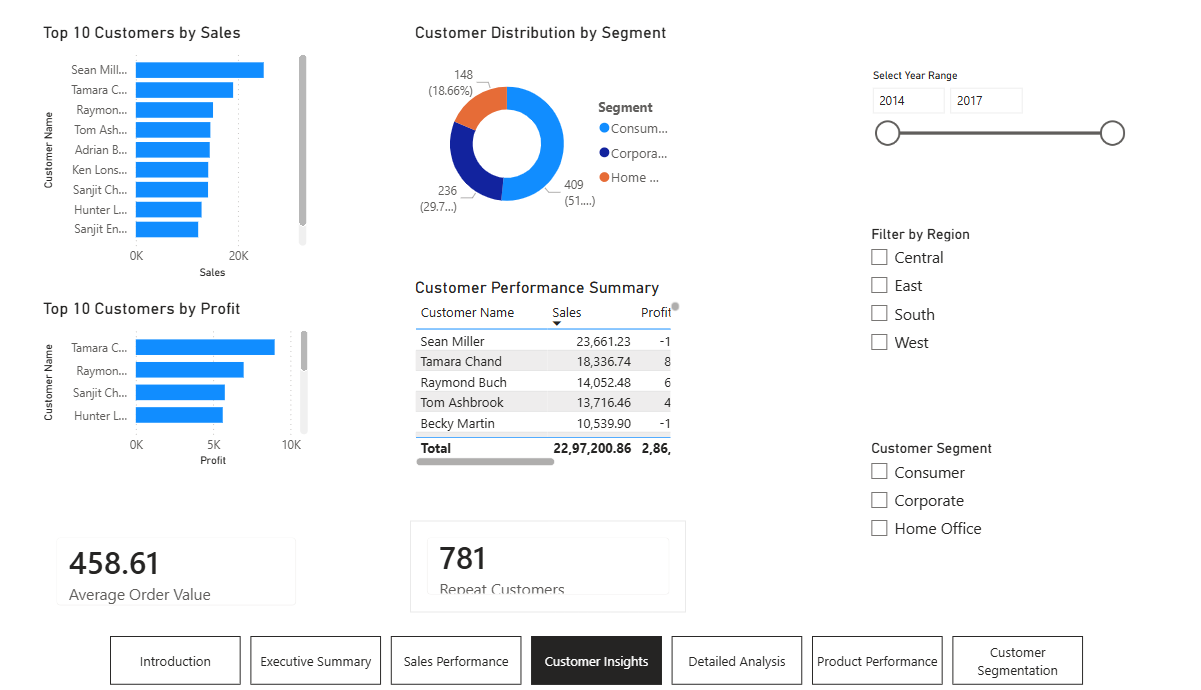

This screenshot's page, from the dashboard's own definition file:
{"tool":"powerbi","page":{"name":"Customer Insights","canvas":[1280,720],"ordinal":3},"visuals":[{"type":"clusteredBarChart","title":"Top 10 Customers by Sales","fields":{"Category":["sales_dashboard sales.Customer Name"],"Y":["Sum(sales_dashboard sales.Sales)"]},"box":[56,28.8,280.1,266.5],"z":0},{"type":"clusteredBarChart","title":"Top 10 Customers by Profit","fields":{"Category":["sales_dashboard sales.Customer Name"],"Y":["Sum(sales_dashboard sales.Profit)"]},"box":[55.4,312.3,281.5,176.9],"z":1000},{"type":"donutChart","title":"Customer Distribution by Segment","fields":{"Category":["sales_dashboard sales.Segment"],"Y":["Count(sales_dashboard sales.Customer ID)"]},"box":[437.6,28.8,280.1,228.6],"z":2000},{"type":"tableEx","title":"Customer Performance Summary","fields":{"Values":["sales_dashboard sales.Customer Name","Sum(sales_dashboard sales.Sales)","Sum(sales_dashboard sales.Profit)","Sum(sales_dashboard sales.Quantity)","sales_dashboard sales.Order ID"]},"box":[436.9,290.8,281.5,198.5],"z":3000},{"type":"cardVisual","fields":{"Data":["sales_dashboard sales.Repeat Customers"]},"box":[436.9,540,283.1,93.8],"z":4000},{"type":"cardVisual","fields":{"Data":["sales_dashboard sales.Average Order Value"]},"box":[56.9,540,280,104.6],"z":5000},{"type":"slicer","fields":{"Values":["sales_dashboard sales.Region"]},"box":[896.4,231.7,280.1,163.5],"z":6000},{"type":"slicer","fields":{"Values":["sales_dashboard sales.Segment"]},"box":[896.4,452.7,281.6,175.6],"z":7000},{"type":"slicer","fields":{"Values":["sales_dashboard sales.Year"]},"box":[897.9,72.7,280.1,136.3],"z":8000},{"type":"pageNavigator","box":[129.2,669.2,1000,50.8],"z":8001}]}

Visuals, with their boxes in screenshot pixels (x1, y1, x2, y2), scaled from the page's 1280x720 canvas onto the 1201x690 screenshot:
"Top 10 Customers by Sales" clusteredBarChart: left=53, top=28, right=315, bottom=283
"Top 10 Customers by Profit" clusteredBarChart: left=52, top=299, right=316, bottom=469
"Customer Distribution by Segment" donutChart: left=411, top=28, right=673, bottom=247
"Customer Performance Summary" tableEx: left=410, top=279, right=674, bottom=469
cardVisual - sales_dashboard sales.Repeat Customers: left=410, top=518, right=676, bottom=607
cardVisual - sales_dashboard sales.Average Order Value: left=53, top=518, right=316, bottom=618
slicer - sales_dashboard sales.Region: left=841, top=222, right=1104, bottom=379
slicer - sales_dashboard sales.Segment: left=841, top=434, right=1105, bottom=602
slicer - sales_dashboard sales.Year: left=842, top=70, right=1105, bottom=200
pageNavigator: left=121, top=641, right=1060, bottom=689
